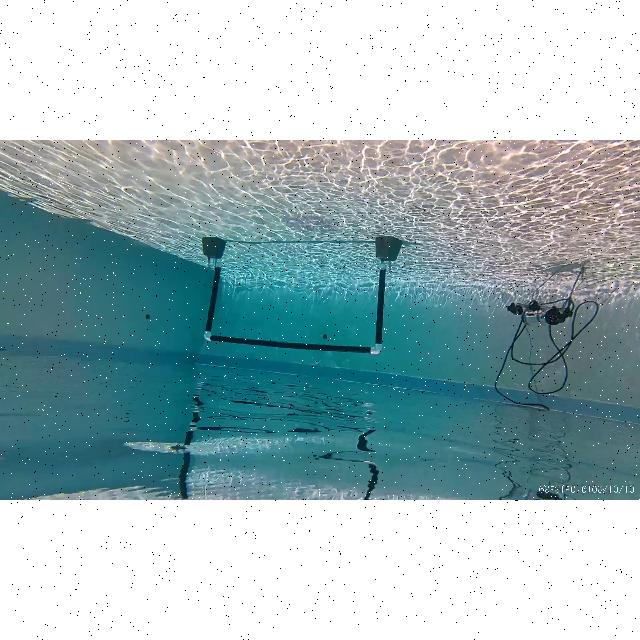prequal gate: (203, 258, 387, 356)
prequal gate leg l: (371, 240, 394, 358)
prequal gate leg r: (204, 240, 222, 344)
